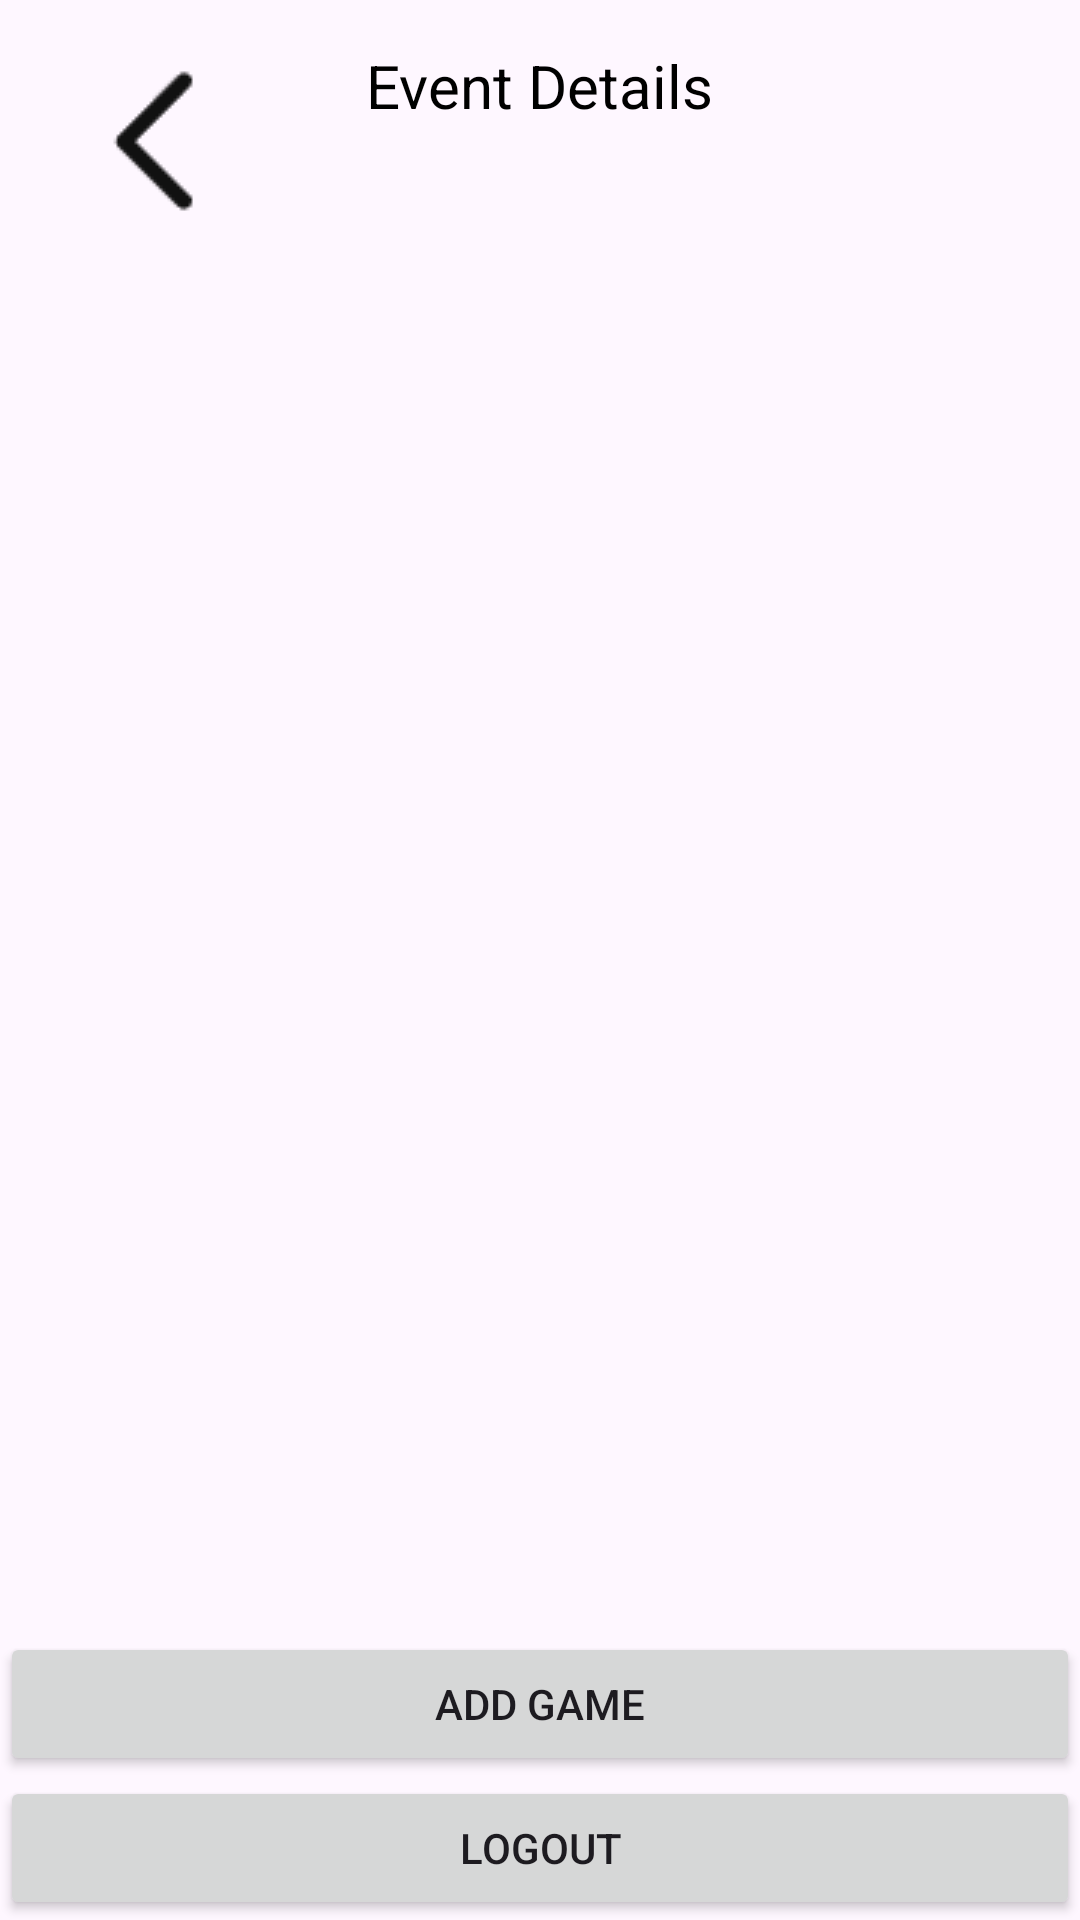

Named icons in this screenshot (1080 × 1920) and their bounding boxes, (x1, y1, x2, y2):
back: (114, 71, 193, 211)
